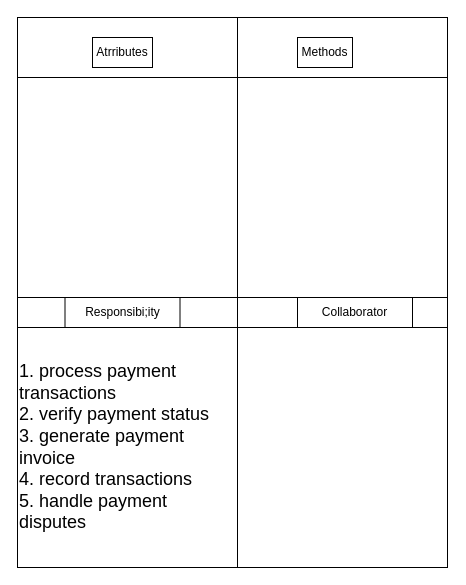
The diagram is 466 pixels wide and 585 high, and some of its shapes have lost their labels. Here are the shapes that lost their labels. From the top down, the centre of each, then its label:
At point (127, 187): "-paymentID -orderID -amount -paymentMethod -transactionStatus -paymentDate".
At point (342, 187): "+processPayment() +verifyPayment() +generateInvoice()".
At point (342, 447): "-Order -Admin -Order -Admin -Admin".
